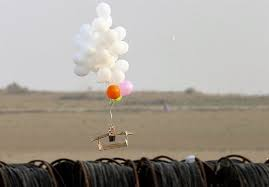Balloon: (95, 67, 112, 85), (105, 83, 122, 100), (93, 17, 109, 33), (73, 51, 88, 65), (114, 42, 128, 55)
